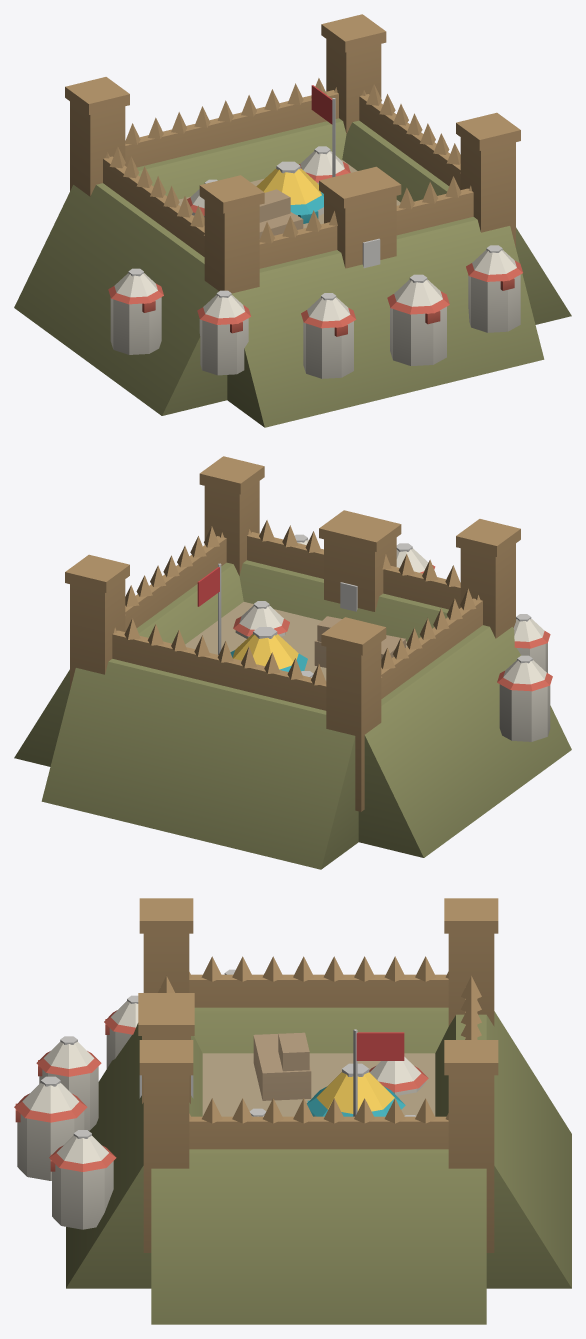
The model's file is castle_steppe_a.glb.
The picture shows the model from 3 angles, top to bottom: view 1: azimuth 30°, elevation 25°; view 2: azimuth 150°, elevation 25°; view 3: azimuth 270°, elevation 25°; orthographic projection. The views are drawn at different scales.
Visible parts, largest first — view 1: castle_steppe_a; view 2: castle_steppe_a; view 3: castle_steppe_a.
Part boxes in pixels (<box>): castle_steppe_a: <box>14,14,571,427</box>; castle_steppe_a: <box>14,456,571,869</box>; castle_steppe_a: <box>14,898,571,1324</box>.
Bounding box in the file's own units: 1.82 × 0.835 × 1.83.
